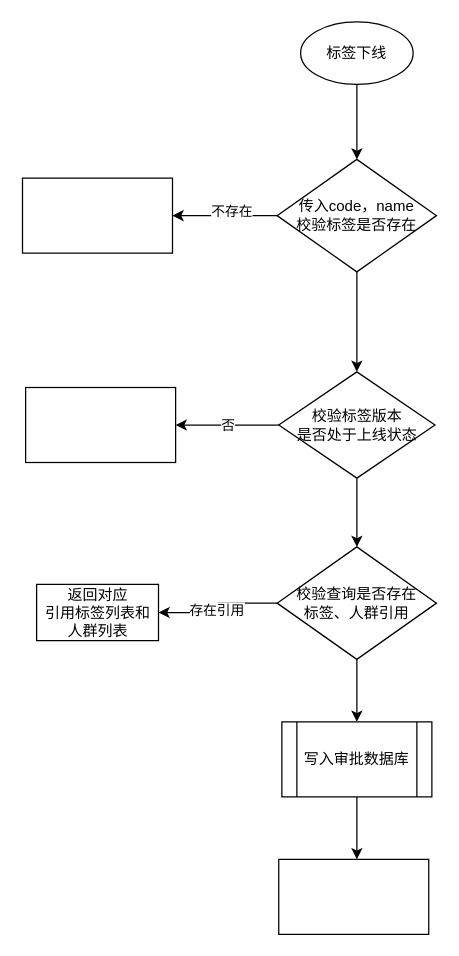
Image size: 459x956. Some labels were removed from this diagram. Each missing label, with the box of its shape:
封装返回信息: (278, 858, 429, 934)
返回不可下线: (24, 386, 176, 462)
返回标签不存在: (21, 177, 172, 253)
